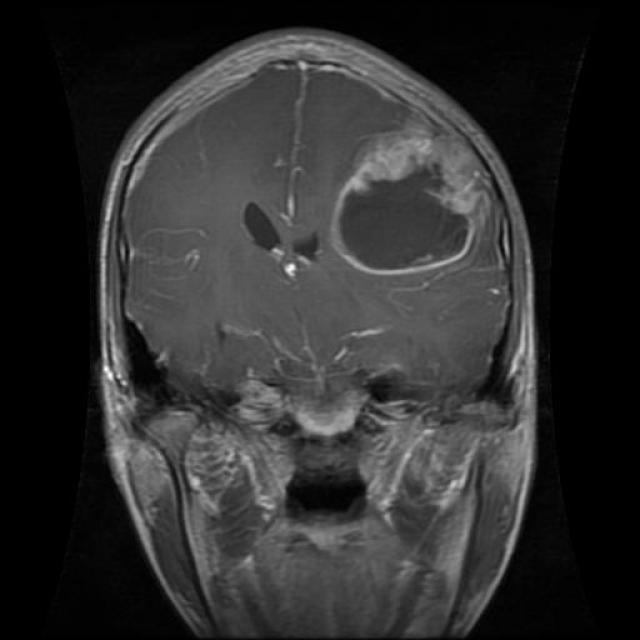glioma: (335, 135, 476, 274)
